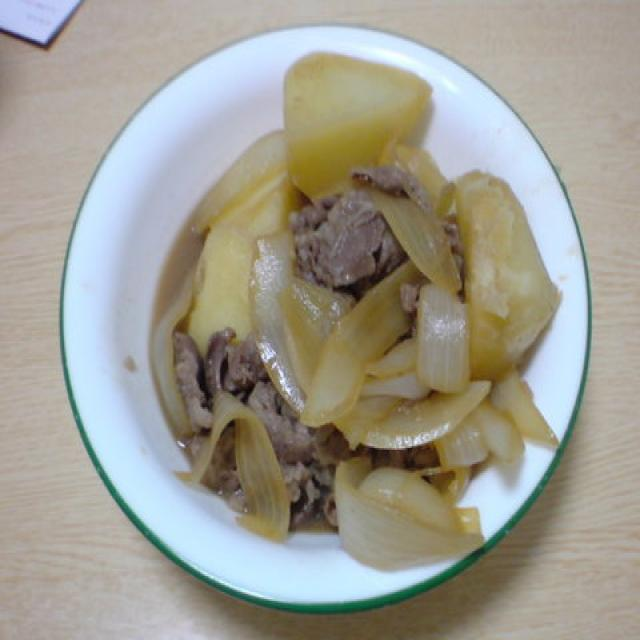牛肉菜式: (44, 12, 601, 630)
